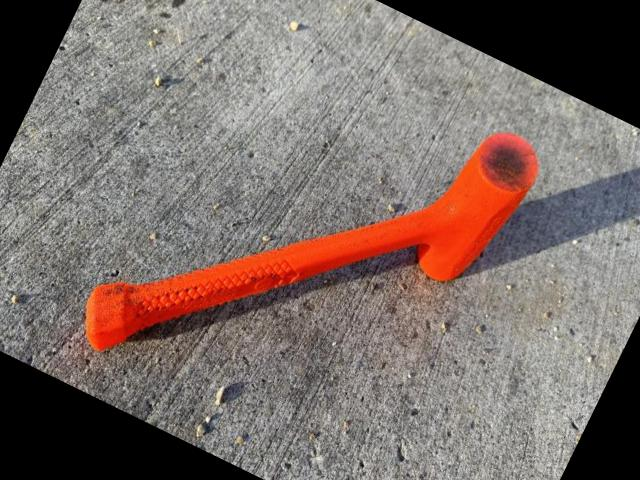hammer: (67, 0, 548, 480)
